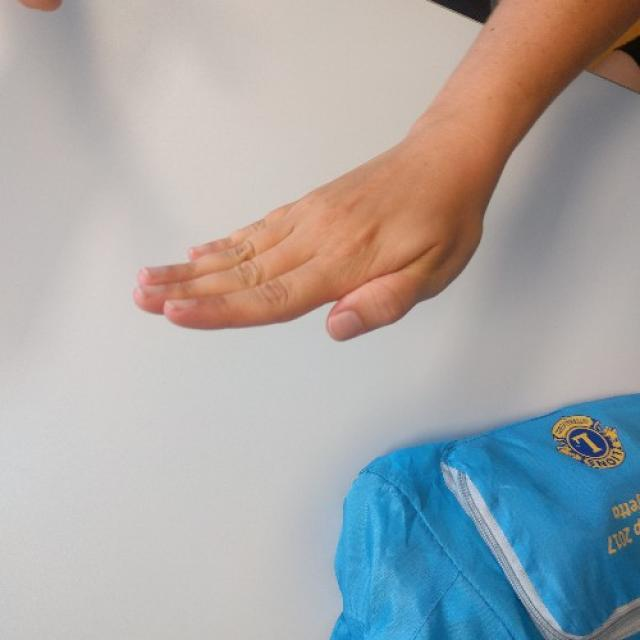paper: (134, 162, 492, 346)
